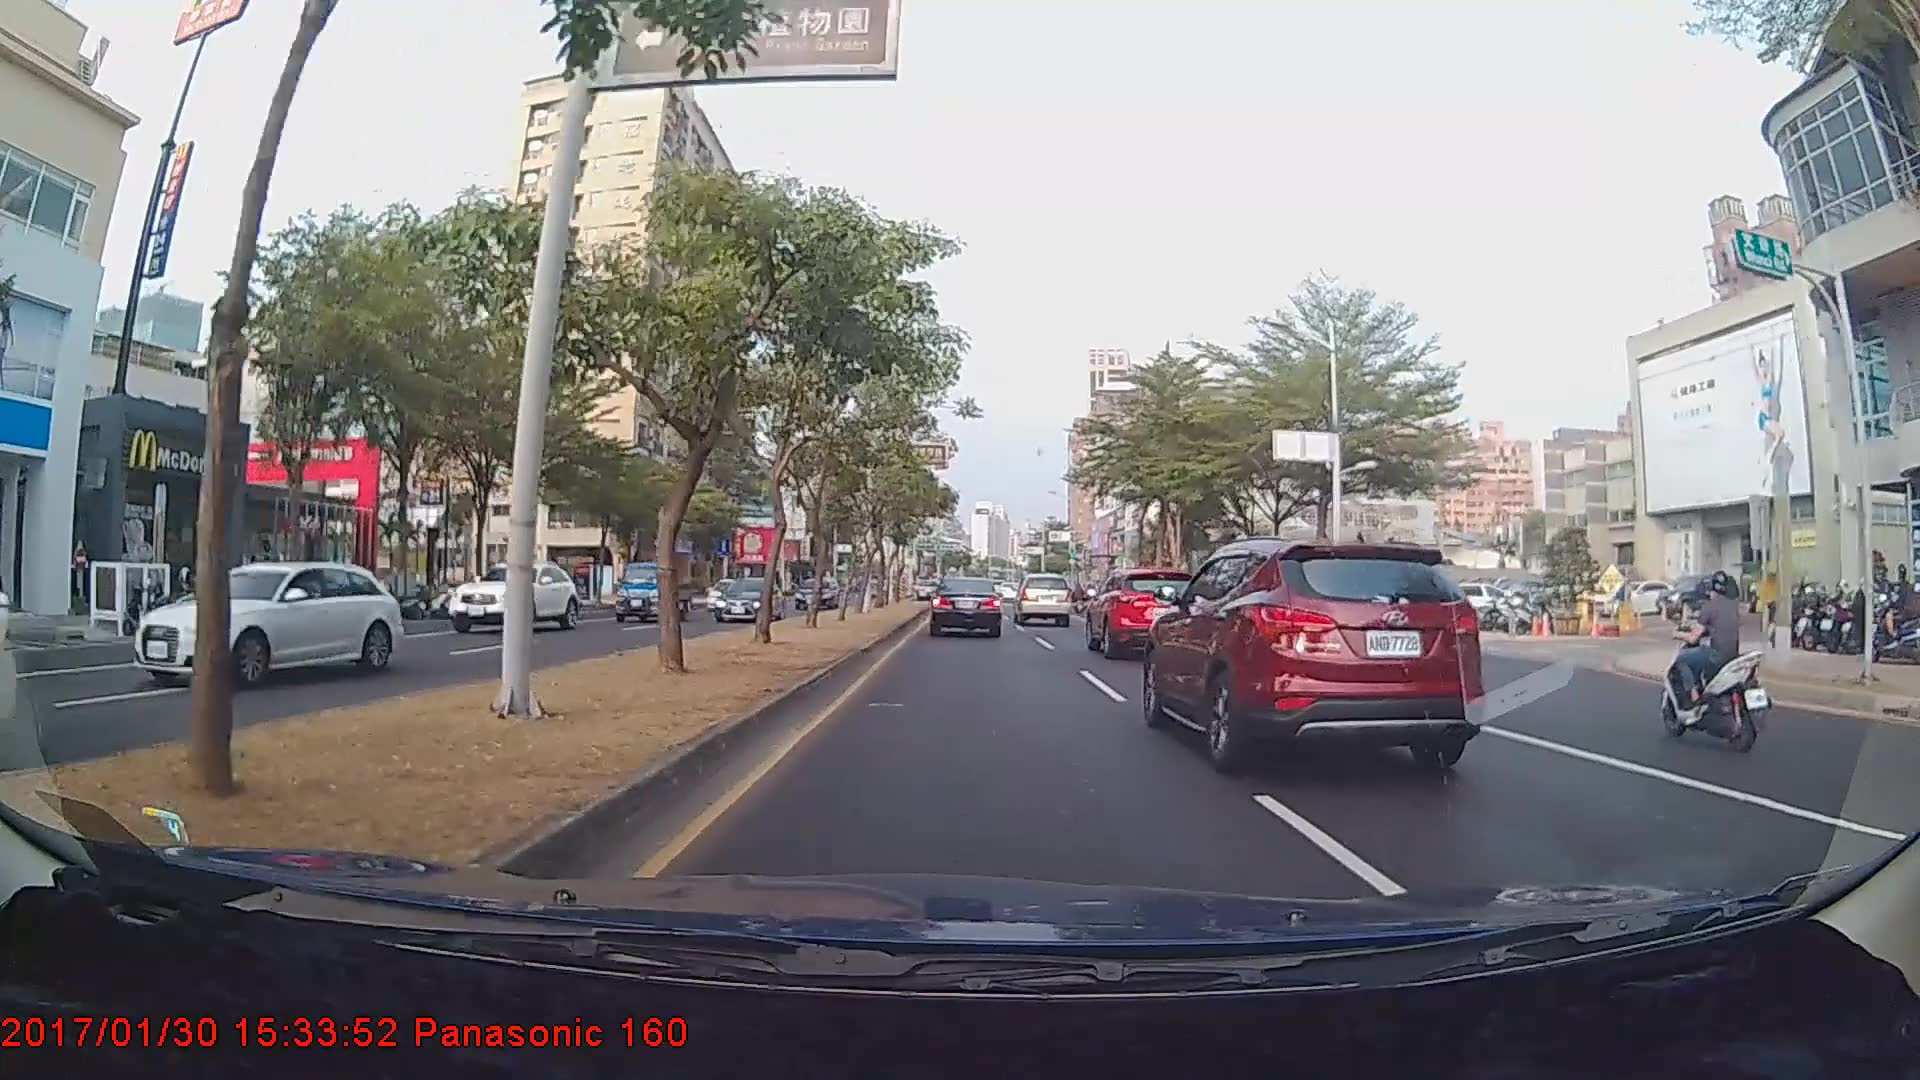rider: (1650, 567, 1771, 756)
vehicle: (1149, 537, 1478, 761), (130, 559, 404, 690), (1085, 570, 1210, 661), (449, 562, 584, 633), (614, 560, 690, 624), (929, 575, 1003, 638), (714, 575, 782, 624), (1013, 572, 1073, 627), (795, 575, 839, 611)
